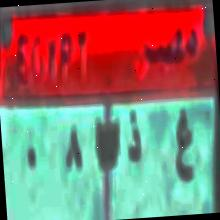0: (19, 134, 44, 184)
8: (59, 120, 88, 178)
ghayn: (166, 102, 196, 186)
zaal: (120, 108, 146, 175)
